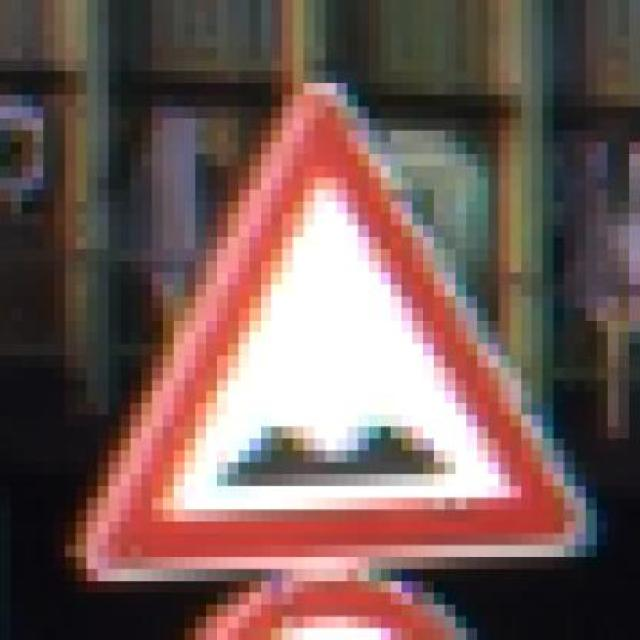Uneven Road: (75, 59, 608, 558)
